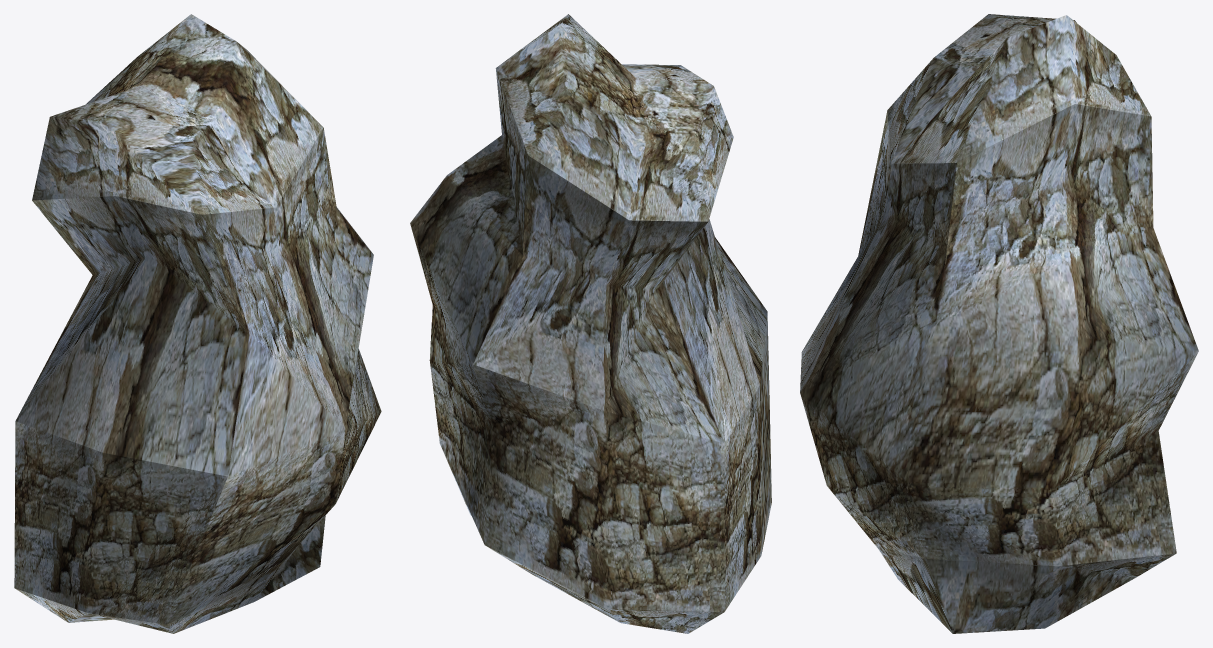
File: loc2_39.glb
3 views of the same model, side by side, from view 1: azimuth 30°, elevation 25°; view 2: azimuth 150°, elevation 25°; view 3: azimuth 270°, elevation 25° (orthographic). The views are drawn at different scales.
Visible parts, largest first — view 1: loc2_39-col; view 2: loc2_39-col; view 3: loc2_39-col.
Part boxes in pixels (x1,y1,x2,y2): loc2_39-col: (14, 14, 381, 633); loc2_39-col: (410, 14, 771, 633); loc2_39-col: (800, 14, 1198, 633).
Bounding box in the file's own units: 2.77 × 4.86 × 2.81.
Materials: 2 (2 with a texture image).
